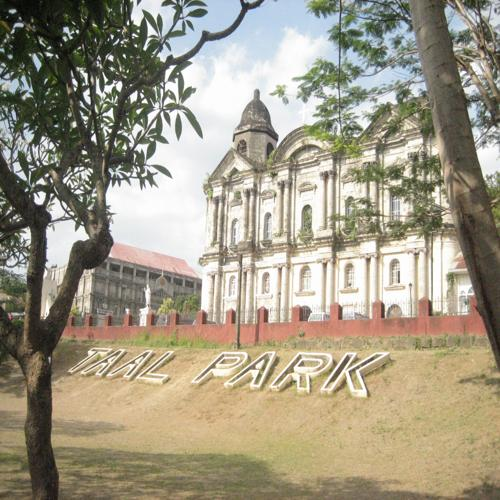Taal Basilica Church: (193, 83, 500, 327)
